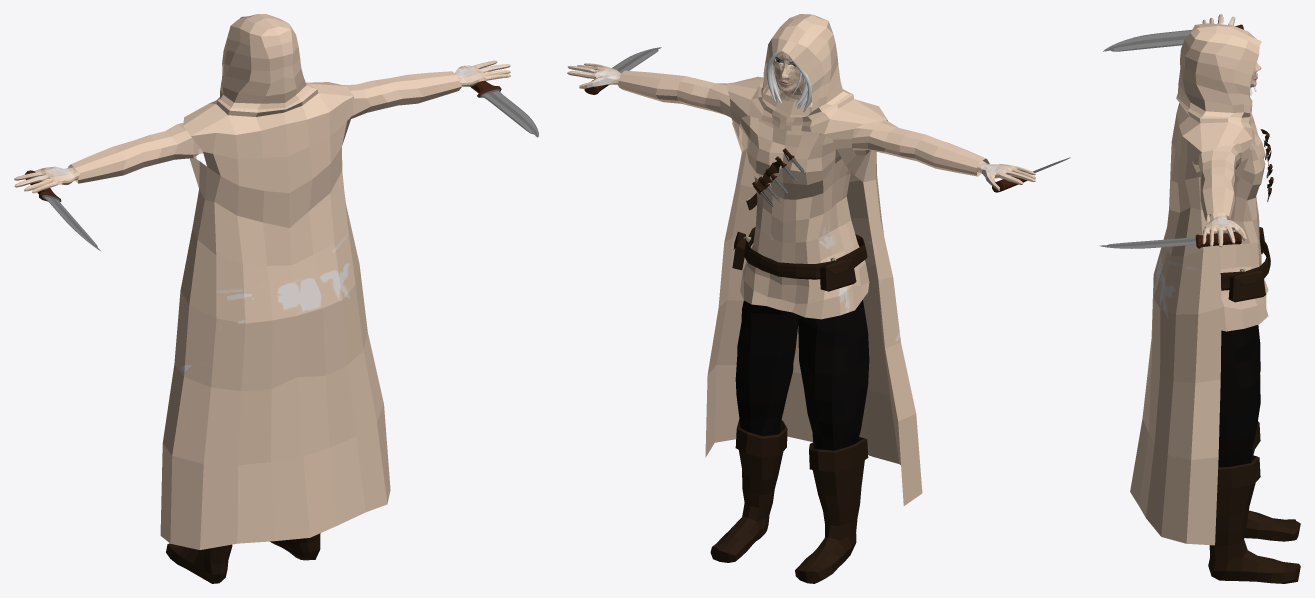
Rendered from rougehuman.fbx.
3 renders of one model, left to right at view 1: azimuth 30°, elevation 25°; view 2: azimuth 150°, elevation 25°; view 3: azimuth 270°, elevation 25°, orthographic. The views are drawn at different scales.
Parts seen in each view (by area): view 1: cloak, cloak.001, boots, BODY, knife.001, knife; view 2: cloak, cloak.001, pants, boots, belt, BODY; view 3: cloak, cloak.001, boots, pants, belt, BODY, knife, knife.001.
Part boxes in pixels (x1,y1,x2,y2): cloak: (160,14,390,549); cloak.001: (68,71,462,183); boots: (166,533,320,583); BODY: (14,60,510,193); knife.001: (470,80,538,137); knife: (25,170,100,250); cloak: (705,14,922,505); cloak.001: (618,70,989,319); pants: (735,300,869,450); boots: (710,419,868,583); belt: (732,227,867,291); BODY: (567,51,1035,190); cloak: (1130,23,1261,545); cloak.001: (1192,122,1268,331); boots: (1208,421,1300,583); pants: (1218,325,1260,467); belt: (1220,227,1270,302); BODY: (1202,14,1261,246); knife: (1103,24,1243,51); knife.001: (1099,231,1241,248).
Size of the model in its own units: 154 by 165 by 56.58.
Materials: 18 (3 with a texture image).
